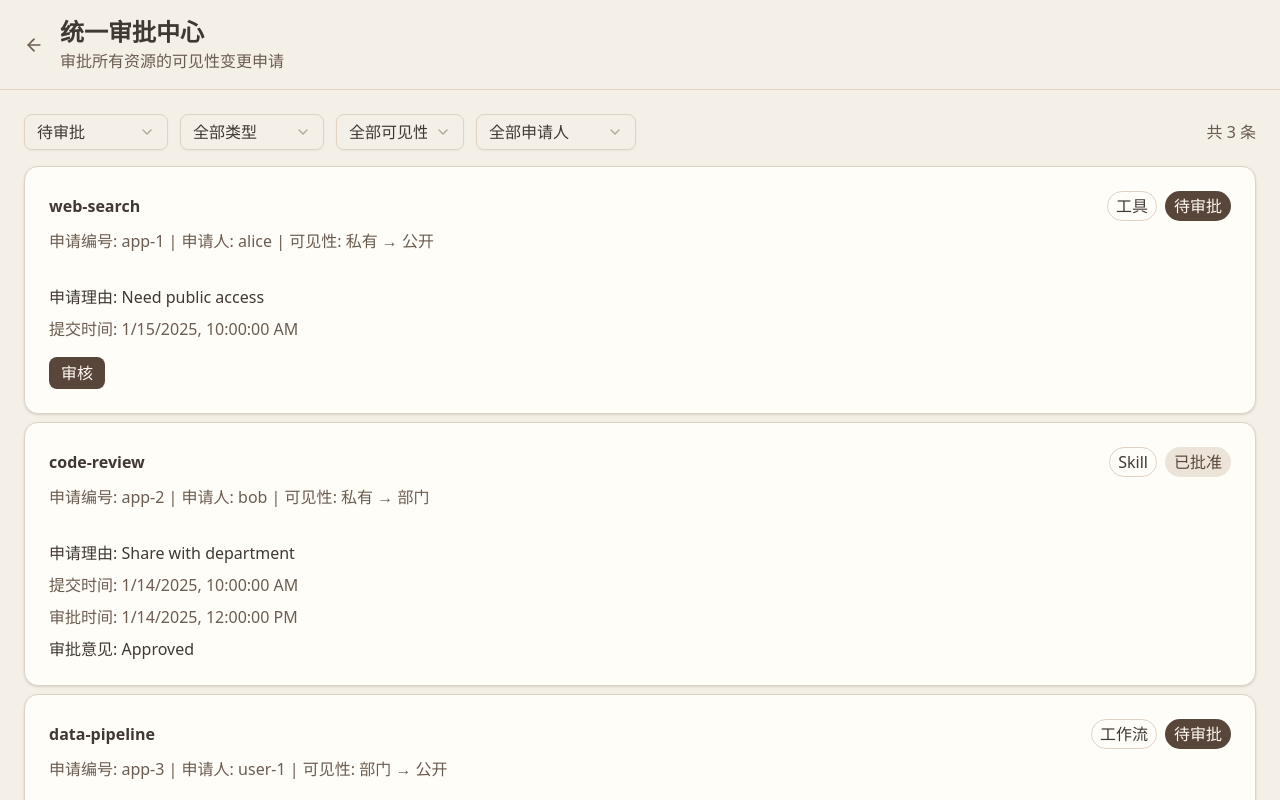
Scenario: VisibilityApplicationsPage › shows review errors without closing dialog
The width and height of the screenshot is (1280, 800).
Check: the text "web-search" is shown, box [49,198,140,214]
Click the button "审核" at point(77, 373), box [49,357,105,389]
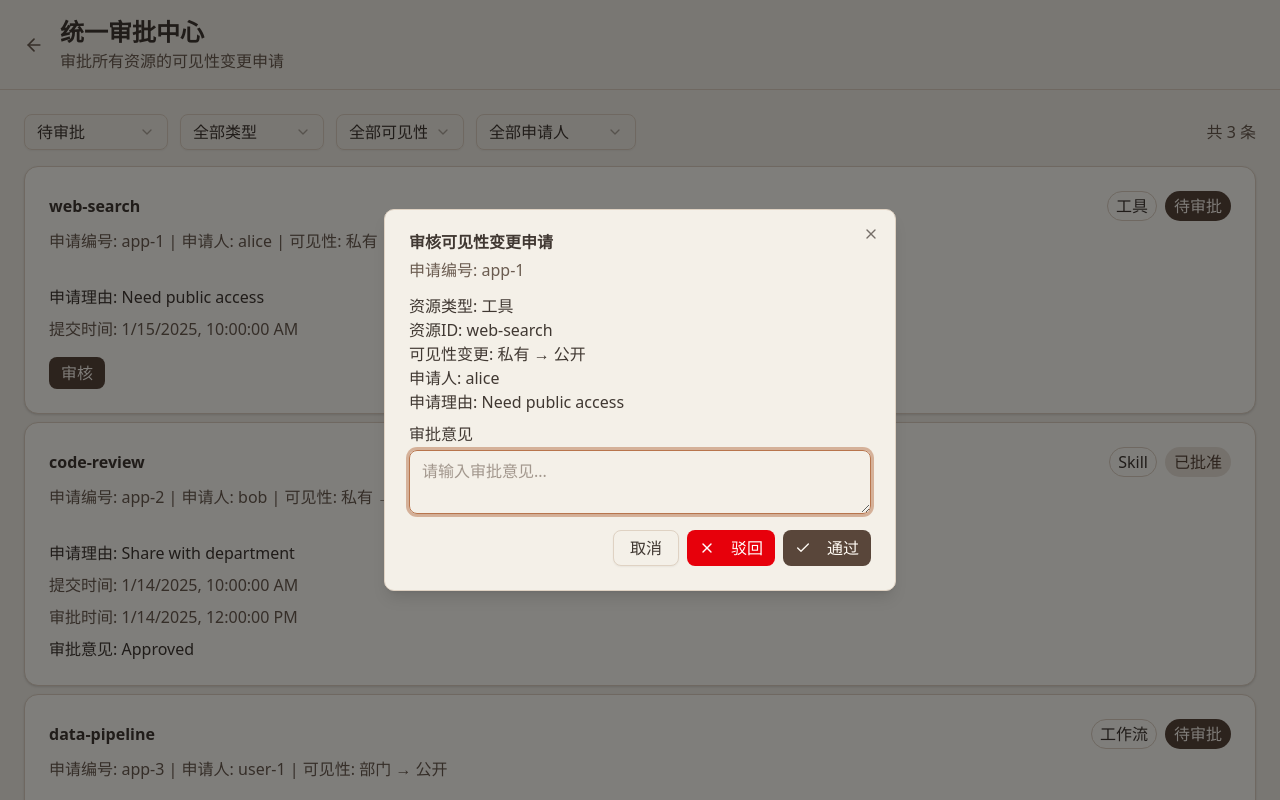
Click the button "通过" at point(827, 548), box [783,530,871,566]
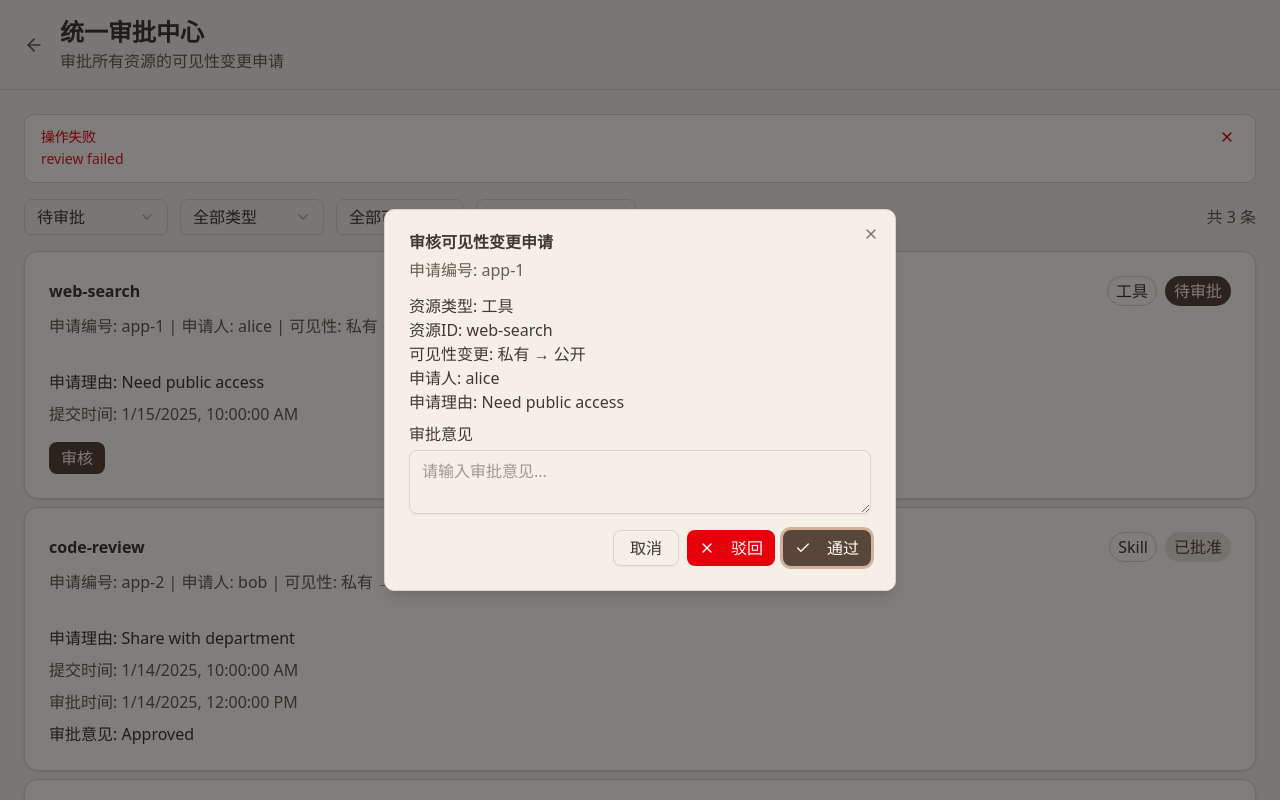
Check: the text "review failed" is shown, box [41,150,124,168]
